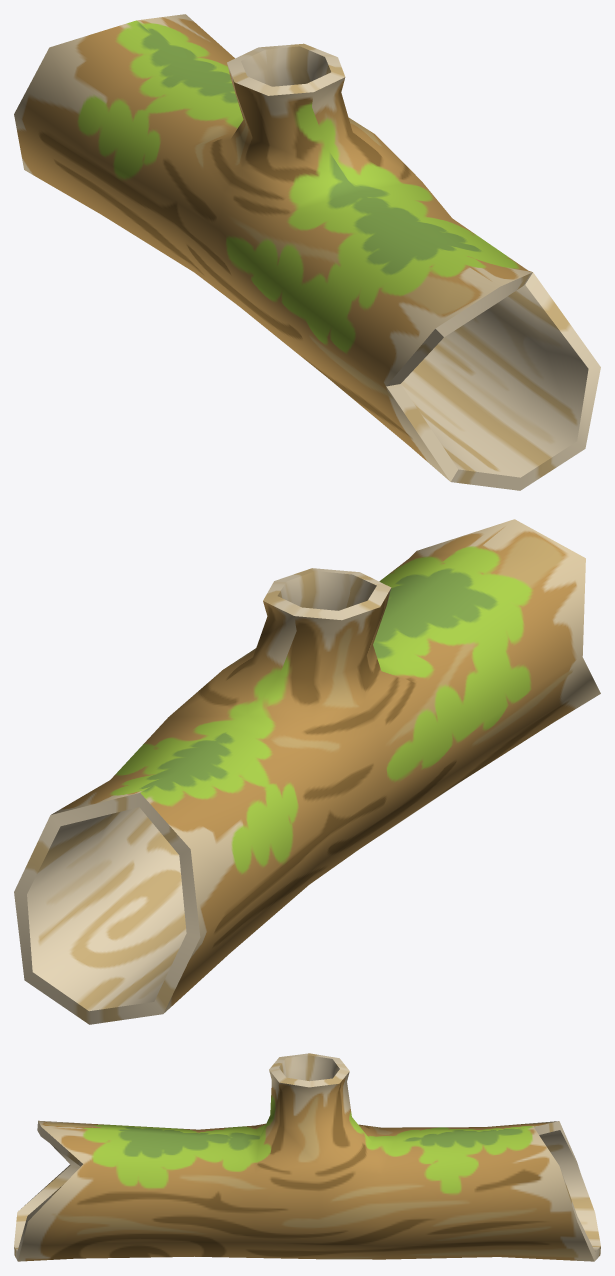
Rendered from tronco01.FBX.
3 views of the same model, one above another, from view 1: azimuth 30°, elevation 25°; view 2: azimuth 150°, elevation 25°; view 3: azimuth 270°, elevation 25° (orthographic). The views are drawn at different scales.
Parts seen in each view (by area): view 1: tronco01; view 2: tronco01; view 3: tronco01.
Boxes of the visible parts, box(x1,y1,x2,y2) form: tronco01: box(14, 14, 600, 490); tronco01: box(14, 519, 600, 1024); tronco01: box(14, 1053, 600, 1261).
Size of the model in its own units: 44.32 by 59.5 by 174.
